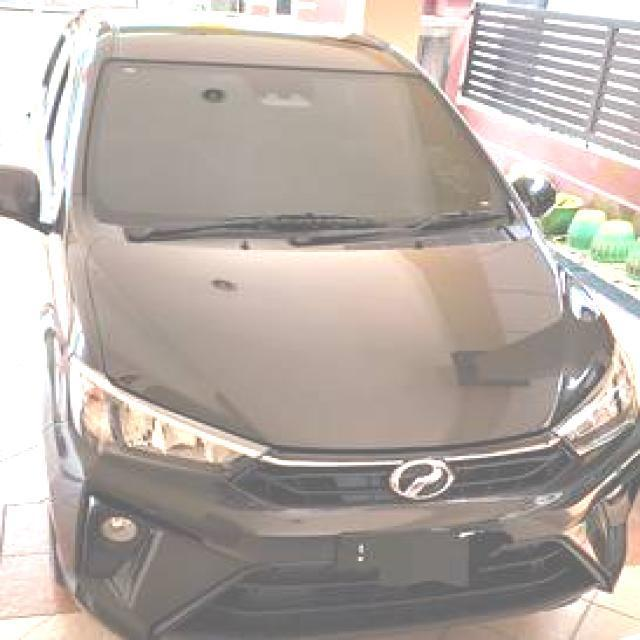PeroduaBezza: (3, 6, 637, 637)
